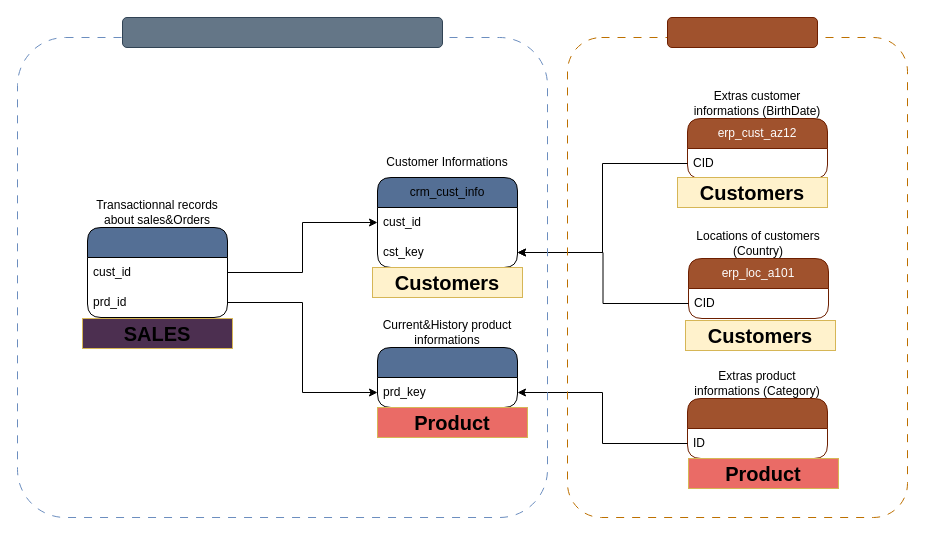
The diagram is 925 pixels wide and 535 high, and some of its shapes have lost their labels. The box of each missing label's shape, as (x1, y1, x2, y2) in pixels:
CRM: (122, 16, 442, 48)
crm_prd_info: (376, 346, 518, 408)
crm_sales_details: (86, 226, 228, 318)
ERP: (666, 16, 818, 48)
erp_px_cat_g1v2: (686, 398, 828, 458)
